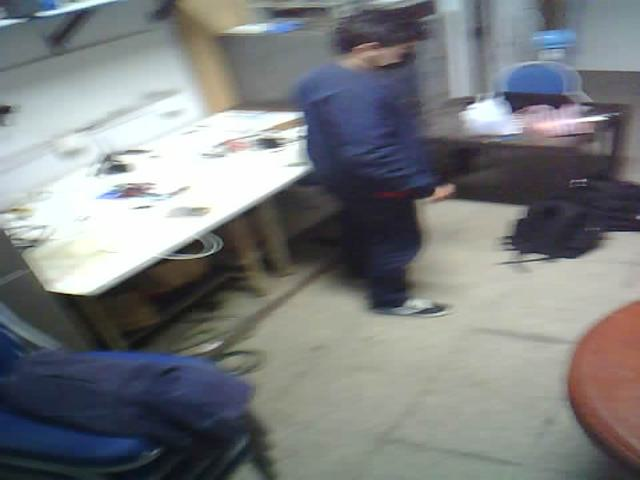person: (286, 0, 463, 327)
